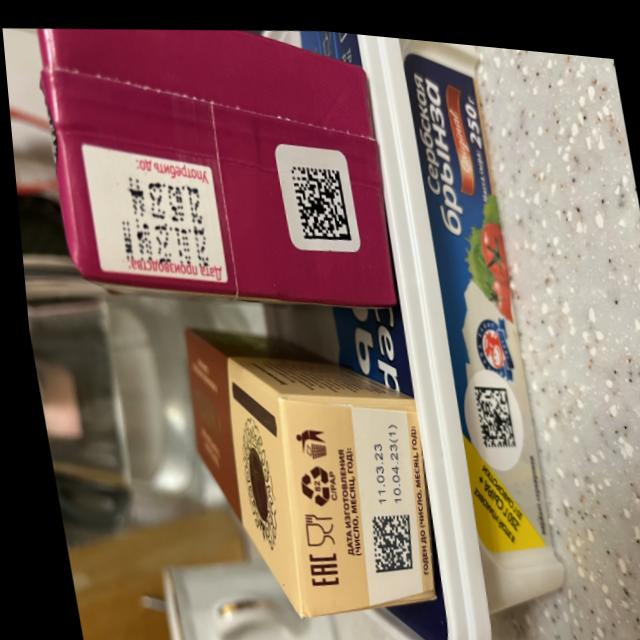datamatrix: (287, 156, 348, 238), (357, 503, 410, 570), (467, 374, 510, 441)
